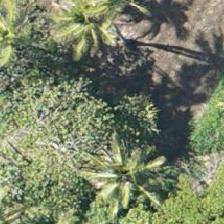coconut_tree: (77, 136, 167, 223), (49, 0, 139, 65), (0, 0, 54, 76)
